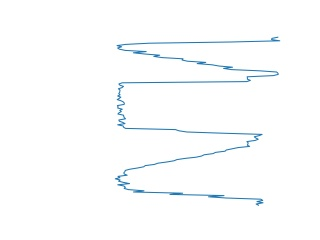distributaryChannelFill: (115, 78, 267, 139)
mouthBar: (114, 33, 283, 76)
underwaterDistributaryChannel: (114, 140, 266, 207)
